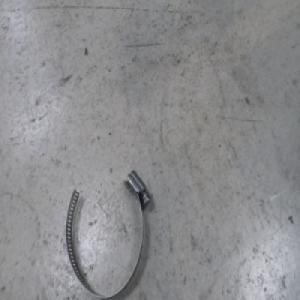AdjustableClamp: (65, 166, 153, 298)
